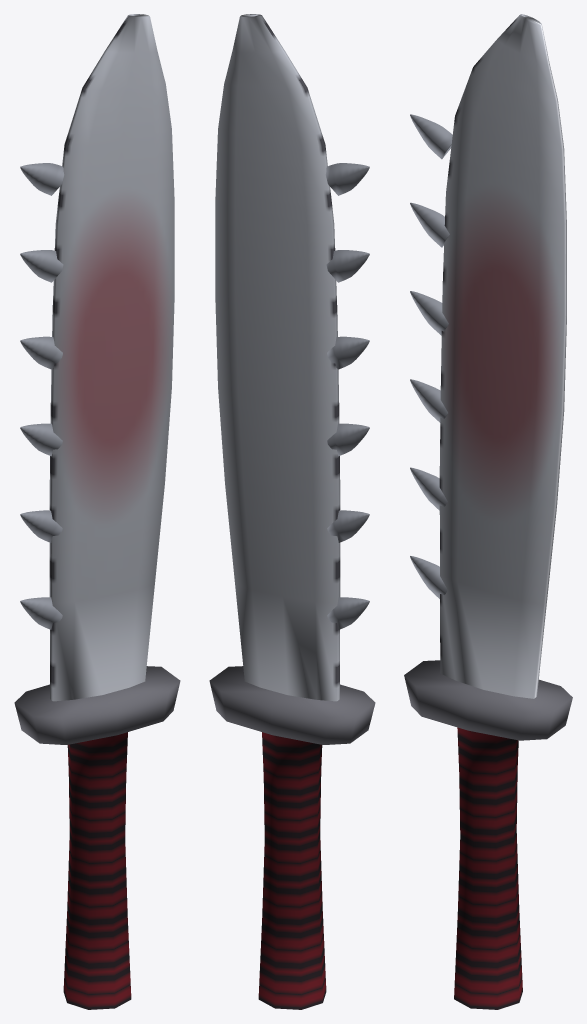
Rendered from blade_foe.glb.
The picture shows the model from 3 angles, left to right: view 1: azimuth 30°, elevation 25°; view 2: azimuth 150°, elevation 25°; view 3: azimuth 330°, elevation 25°; orthographic projection.
Parts seen in each view (by area): view 1: blade_ghoul; view 2: blade_ghoul; view 3: blade_ghoul.
Part boxes in pixels (bbox=[...]): blade_ghoul: bbox=[14, 14, 180, 1009]; blade_ghoul: bbox=[209, 14, 375, 1009]; blade_ghoul: bbox=[404, 14, 572, 1009].
Size of the model in its own units: 0.1108 by 0.6717 by 0.052.
1 material, 1 textured.
